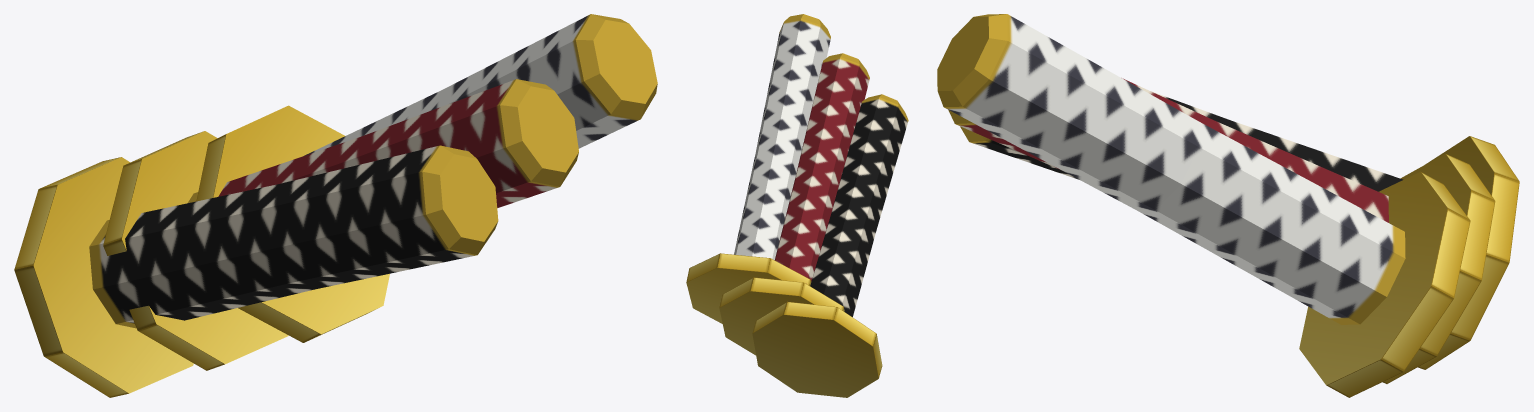
Rendered from acc_Sabres_Hanche.fbx.
3 views of the same model, side by side, from view 1: azimuth 30°, elevation 25°; view 2: azimuth 150°, elevation 25°; view 3: azimuth 270°, elevation 25° (orthographic). The views are drawn at different scales.
Visible parts, largest first — view 1: Acc_Sabres_Hanche; view 2: Acc_Sabres_Hanche; view 3: Acc_Sabres_Hanche.
Boxes of the visible parts, x1,y1,x2,y2 form: Acc_Sabres_Hanche: (14,14,657,397); Acc_Sabres_Hanche: (686,14,908,397); Acc_Sabres_Hanche: (937,14,1519,397).
Bounding box in the file's own units: 86.26 × 95 × 110.
Materials: 1 (1 with a texture image).
